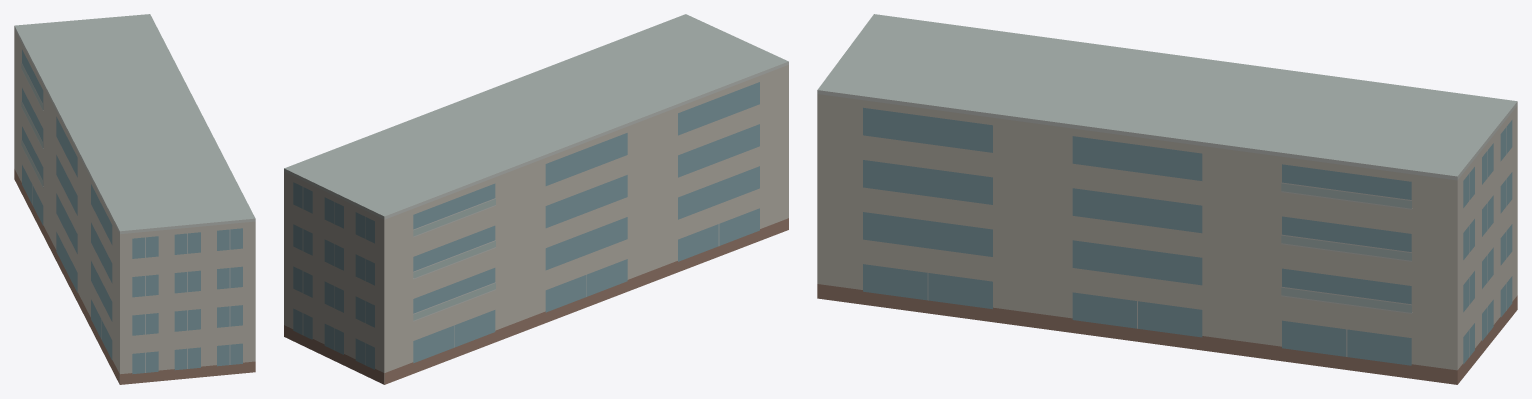
Rendered from survey-upis-32869396.glb.
The picture shows the model from 3 angles, left to right: view 1: azimuth 30°, elevation 25°; view 2: azimuth 150°, elevation 25°; view 3: azimuth 270°, elevation 25°; orthographic projection. The views are drawn at different scales.
Visible parts, largest first — view 1: survey-upis-32869396.tmp; view 2: survey-upis-32869396.tmp; view 3: survey-upis-32869396.tmp.
Boxes of the visible parts, left/top/right/bottom form: survey-upis-32869396.tmp: left=14, top=14, right=255, bottom=384; survey-upis-32869396.tmp: left=284, top=14, right=788, bottom=384; survey-upis-32869396.tmp: left=817, top=14, right=1517, bottom=384.
Bounding box in the file's own units: 21.41 × 12.8 × 38.99.
